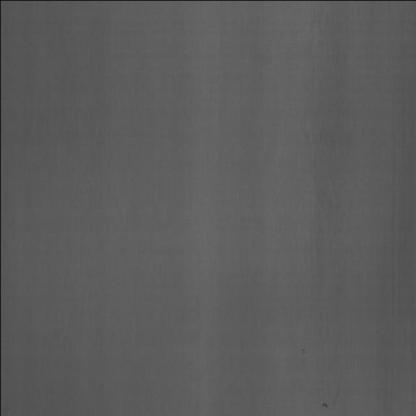inclusion: (296, 339, 310, 357), (318, 397, 331, 414)
